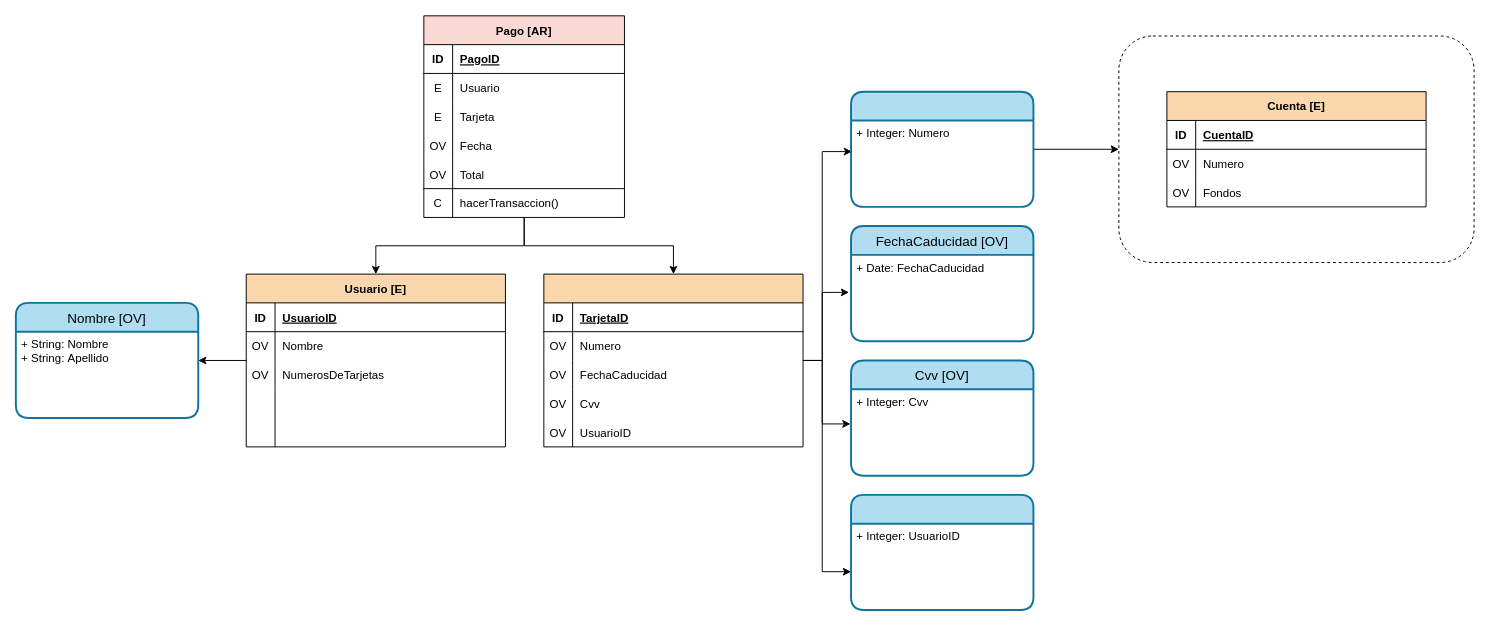
Image size: 1490x626. Some labels were removed from this diagram. The shapes that lost their labels are listed below. From the top down, each one's box as (x1, y1, x2, y2) in pixels, then its label:
(850, 90, 1034, 207): Numero [OV]
(543, 273, 803, 447): Tarjeta [E]
(850, 493, 1034, 611): UsuarioID [OV]
